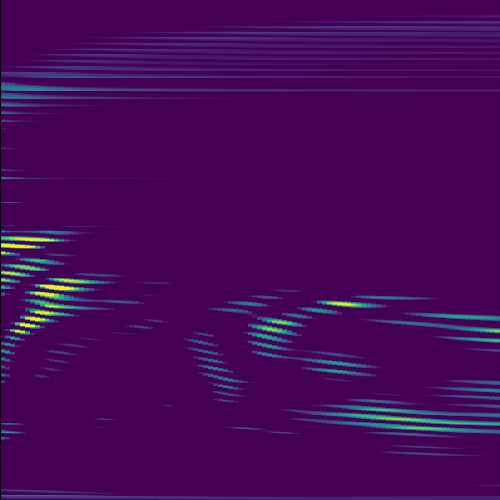semblance: (12, 274, 114, 311), (1, 233, 69, 259), (1, 255, 58, 283)
